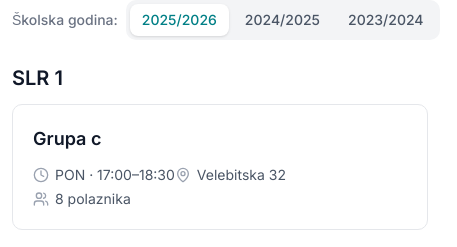
Test: TeacherGroupsBoard — school-year tabs › lists every year with groups, newest first, and switches on click
Click the button "2023/2024" at (386, 20), box [336,4,436,36]
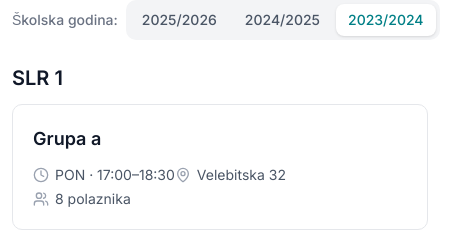
Now the heading "Grupa a" is shown, box [33,128,101,149]
Now the link "Grupa c" is gone
